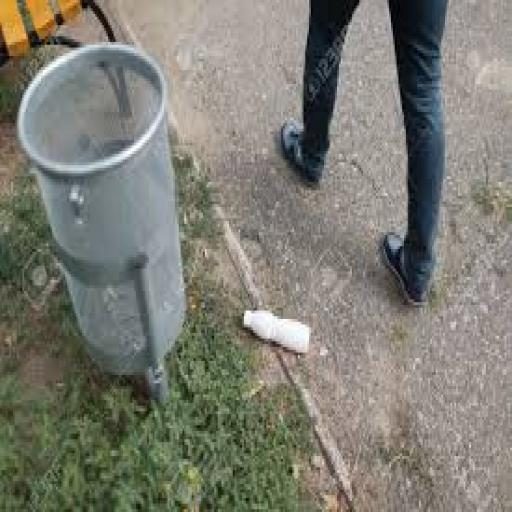poubelle_vide: (15, 19, 211, 428)
